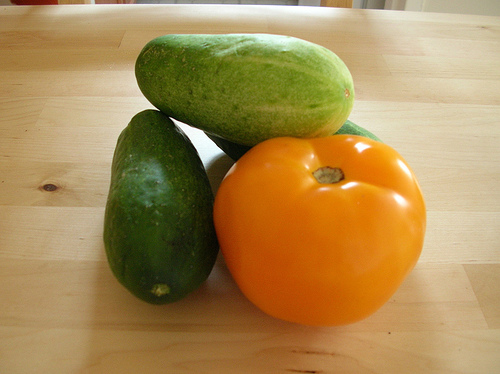cucumber: (100, 107, 221, 308), (133, 30, 356, 139), (205, 120, 384, 188)
